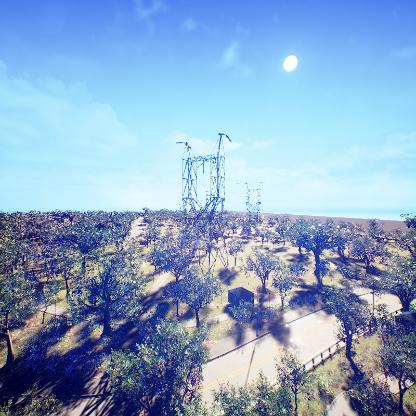tower: (166, 131, 235, 294)
